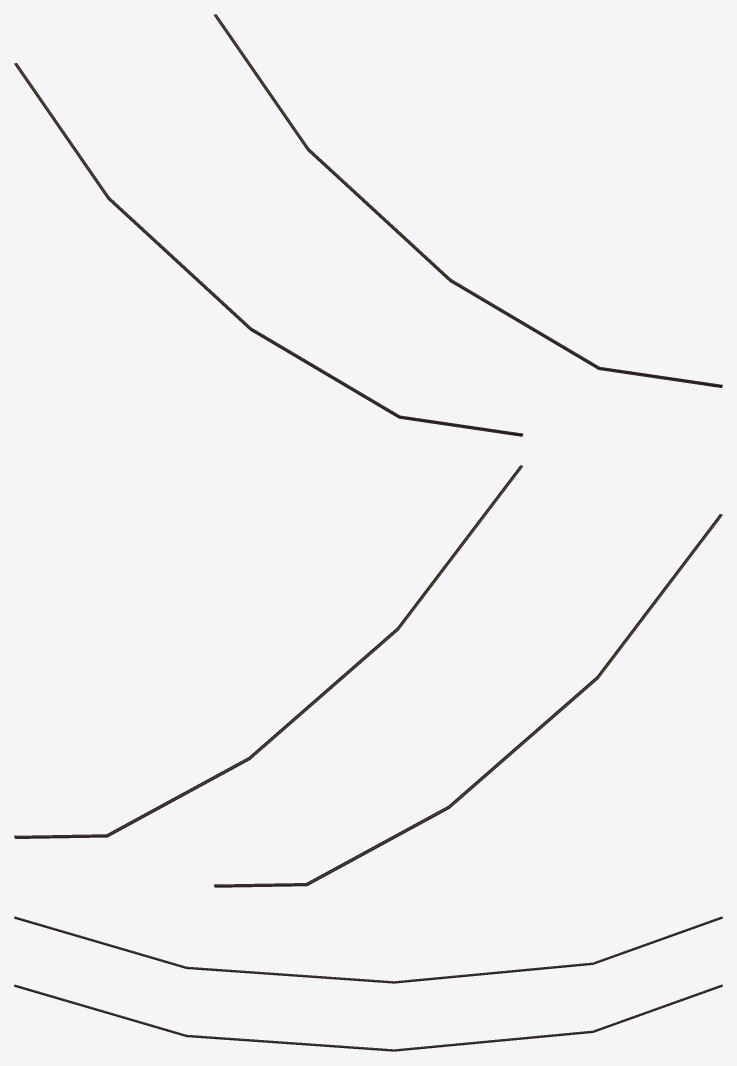
The model's file is Electric_Robe_01.FBX.
3 renders of one model, top to bottom at view 1: azimuth 30°, elevation 25°; view 2: azimuth 150°, elevation 25°; view 3: azimuth 270°, elevation 25°, orthographic. The views are drawn at different scales.
Visible parts, largest first — view 1: Electric_Robe_01; view 2: Electric_Robe_01; view 3: Electric_Robe_01.
Part boxes in pixels (x1=…): Electric_Robe_01: x1=14, y1=14, x2=722, y2=436; Electric_Robe_01: x1=14, y1=465, x2=722, y2=887; Electric_Robe_01: x1=14, y1=916, x2=722, y2=1051.
Size of the model in its own units: 44.13 by 19.91 by 191.
